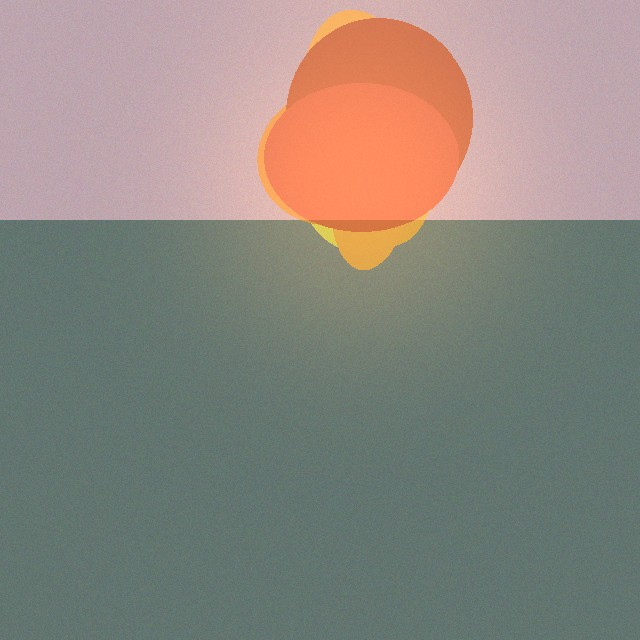fire: (267, 96, 457, 274)
